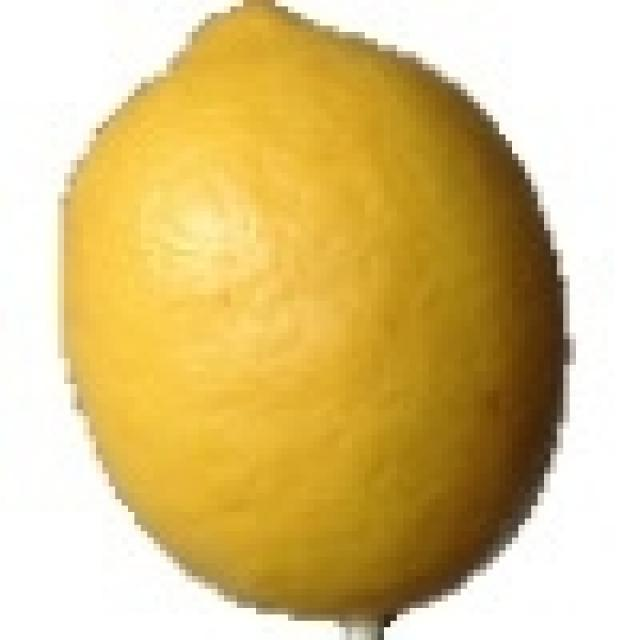lemon: (64, 0, 562, 626)
